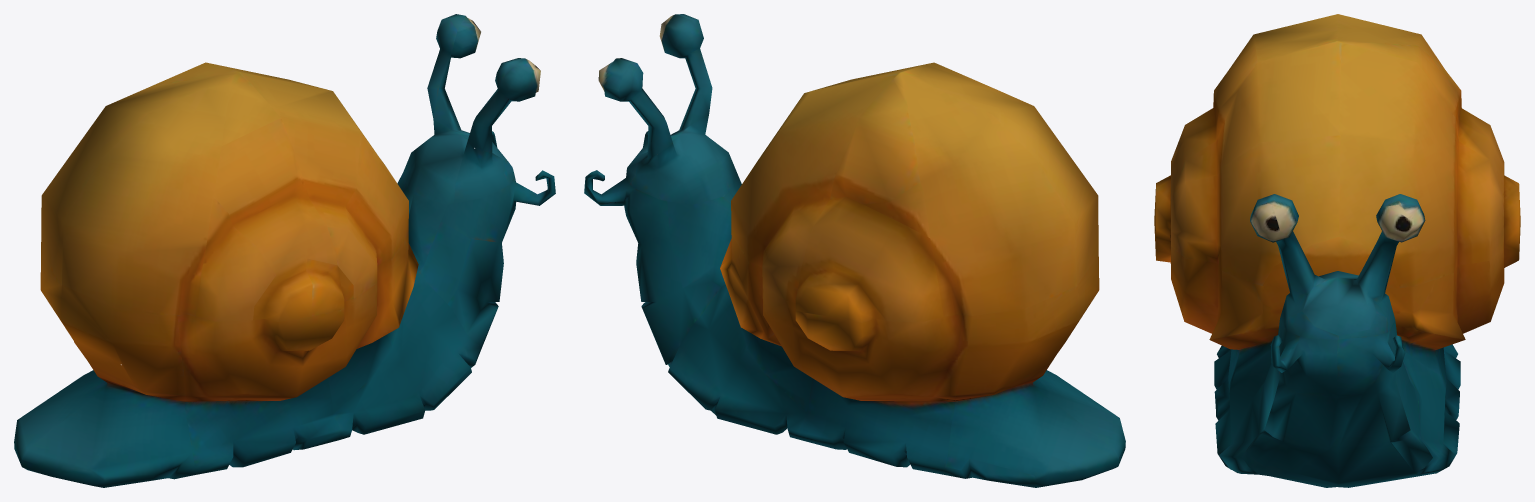
The model's file is m3d_caracol-g1.glb.
3 views of the same model, side by side, from view 1: azimuth 30°, elevation 25°; view 2: azimuth 150°, elevation 25°; view 3: azimuth 270°, elevation 25° (orthographic). The views are drawn at different scales.
Parts seen in each view (by area): view 1: tripo_node_abf3a9b2-5471-4ba5-9c2d-4dc4fec80fbc; view 2: tripo_node_abf3a9b2-5471-4ba5-9c2d-4dc4fec80fbc; view 3: tripo_node_abf3a9b2-5471-4ba5-9c2d-4dc4fec80fbc.
Boxes of the visible parts, x1,y1,x2,y2 form: tripo_node_abf3a9b2-5471-4ba5-9c2d-4dc4fec80fbc: [14, 14, 555, 487]; tripo_node_abf3a9b2-5471-4ba5-9c2d-4dc4fec80fbc: [584, 14, 1125, 487]; tripo_node_abf3a9b2-5471-4ba5-9c2d-4dc4fec80fbc: [1154, 14, 1520, 487].
Size of the model in its own units: 0.9983 by 0.6543 by 0.595.
1 material, 1 textured.
